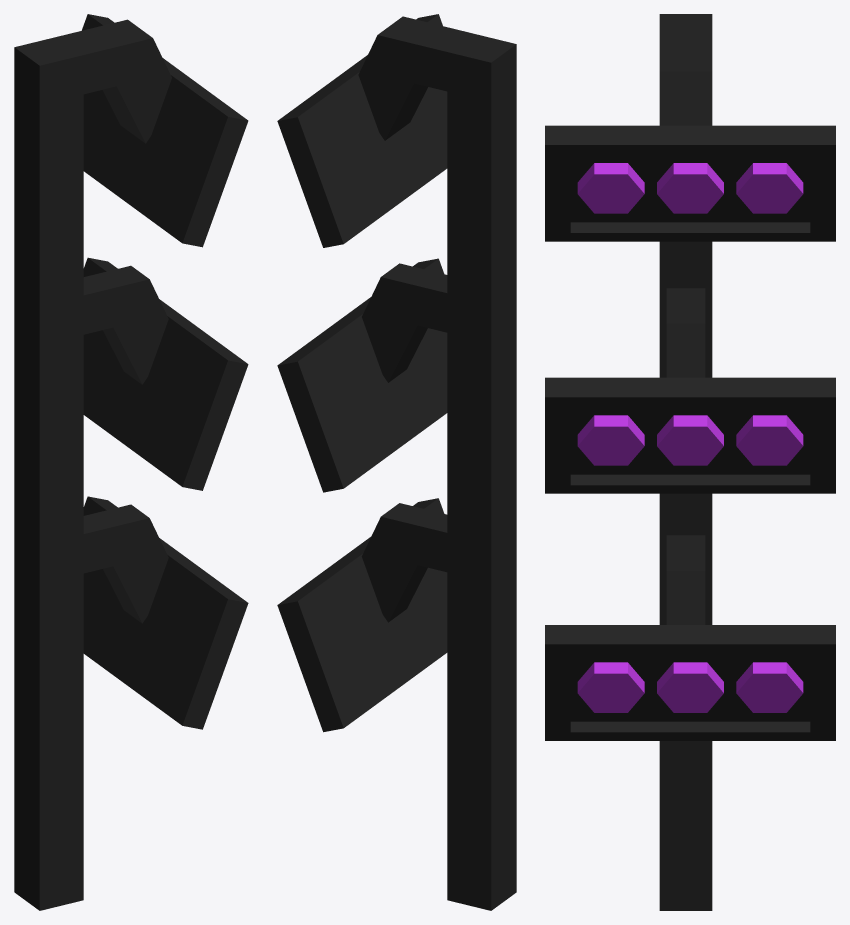
Rendered from plant_UV_FBX.fbx.
3 renders of one model, left to right at view 1: azimuth 30°, elevation 25°; view 2: azimuth 150°, elevation 25°; view 3: azimuth 270°, elevation 25°, orthographic. The views are drawn at different scales.
Parts seen in each view (by area): view 1: Cube; view 2: Cube; view 3: Cube.
Part boxes in pixels (left/top/right/bottom): Cube: left=14, top=14, right=248, bottom=910; Cube: left=277, top=14, right=516, bottom=910; Cube: left=545, top=14, right=835, bottom=910.
Size of the model in its own units: 16.17 by 85.12 by 25.63.
